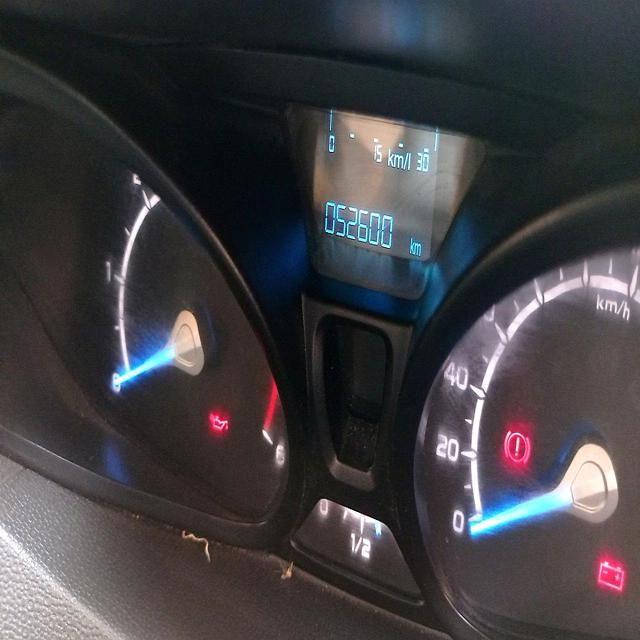odometer: (320, 192, 396, 252)
